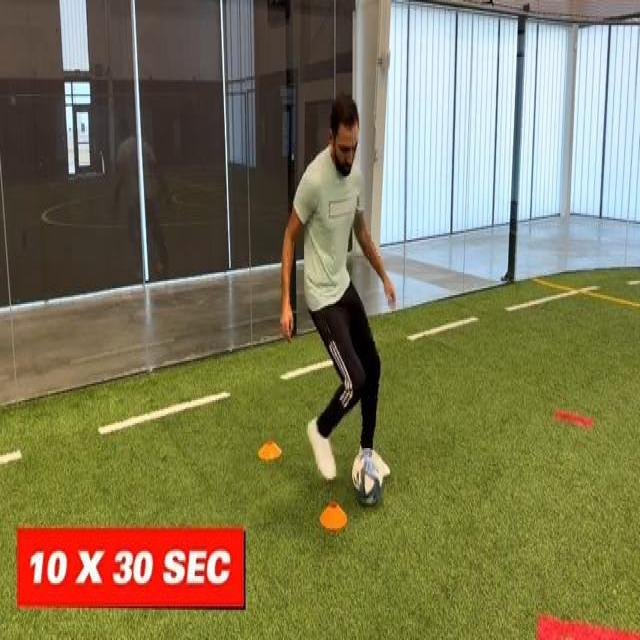Soccer Ball: (351, 447, 384, 504)
